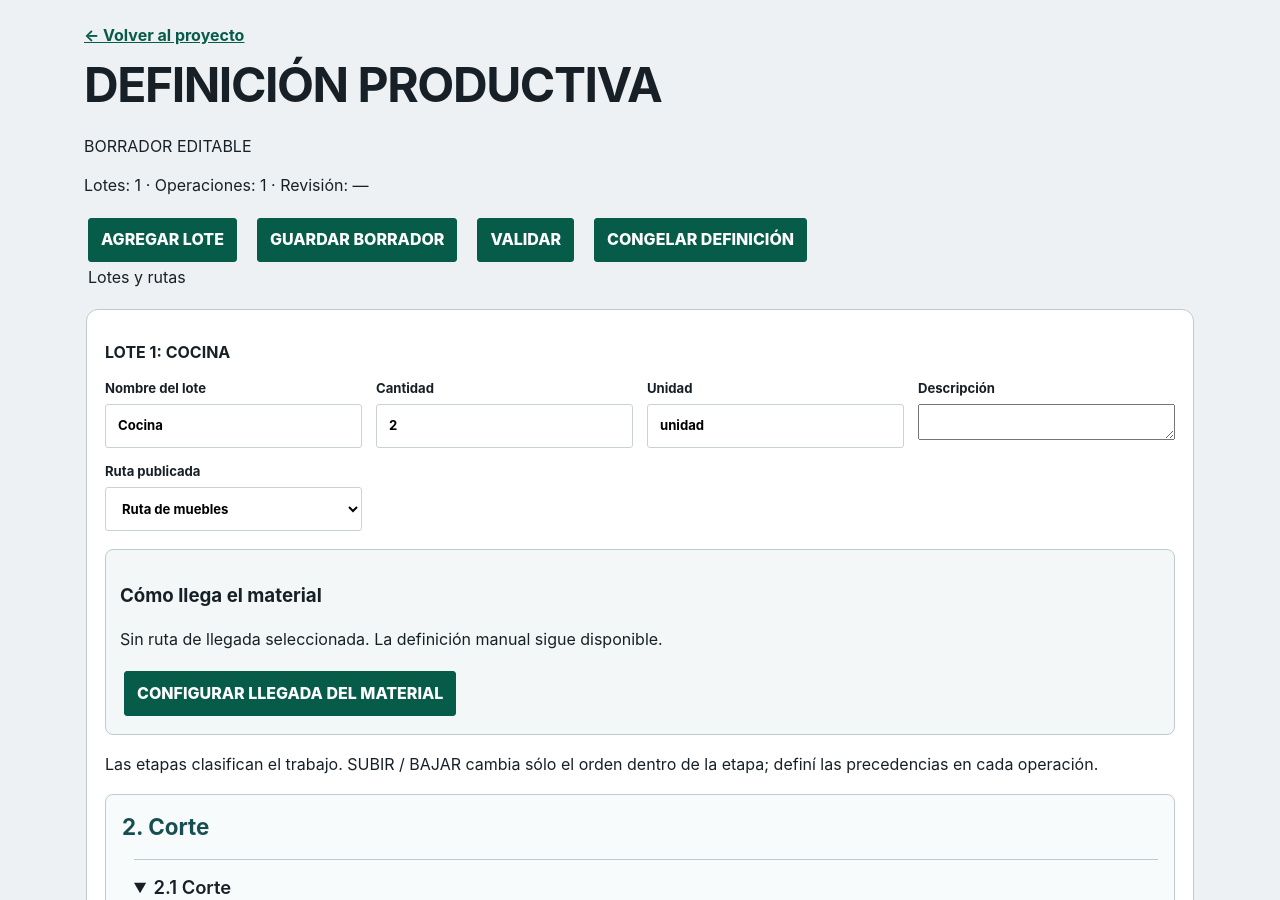
Test: crear múltiples lotes
This screenshot has width=1280, height=900.
Check: the heading "Definición productiva" is shown, box [84,55,662,114]
Step 1. Click the button "AGREGAR LOTE" → (162, 240), box [88,218,237,262]
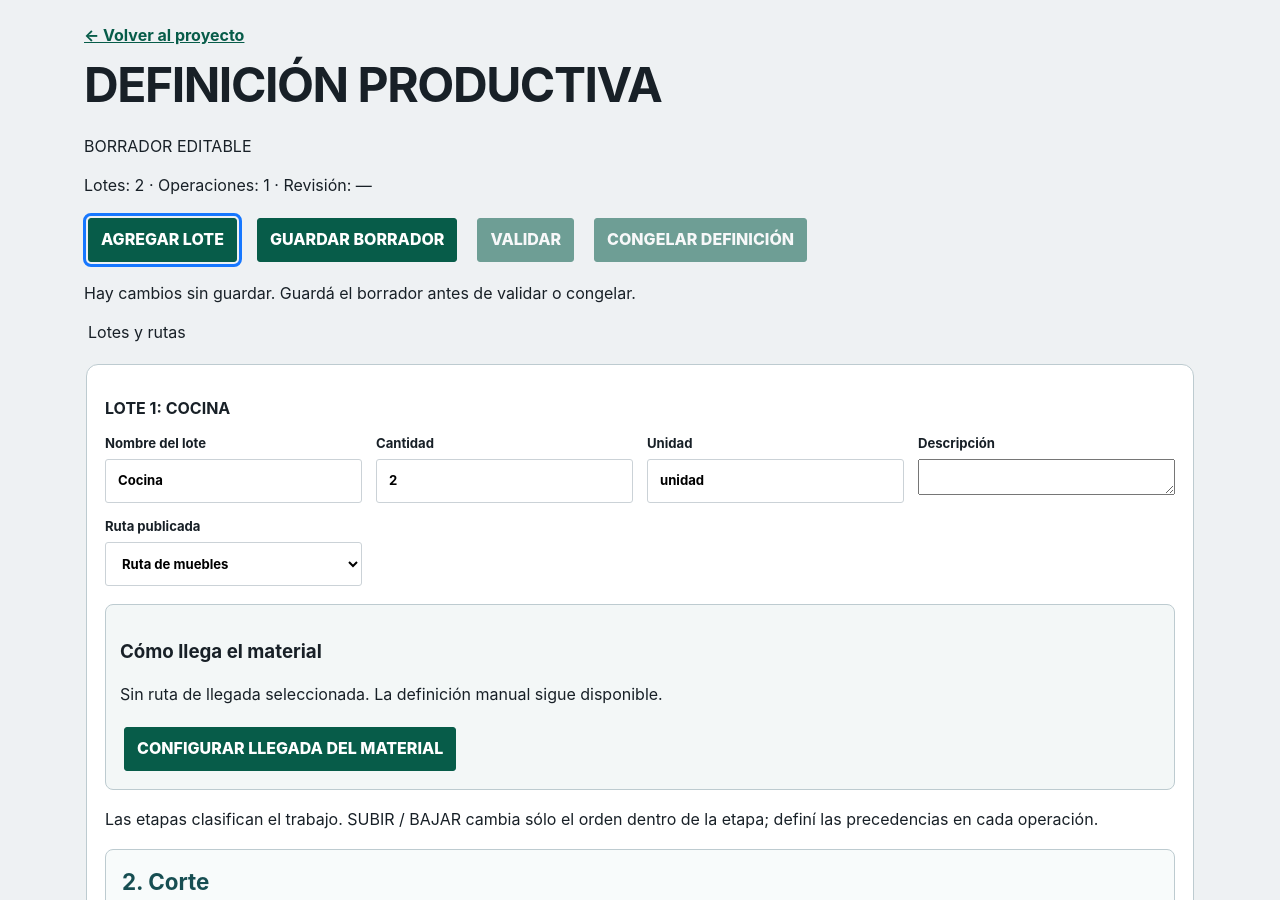
Check: the number of fields labelled "Nombre del lote" is 2
